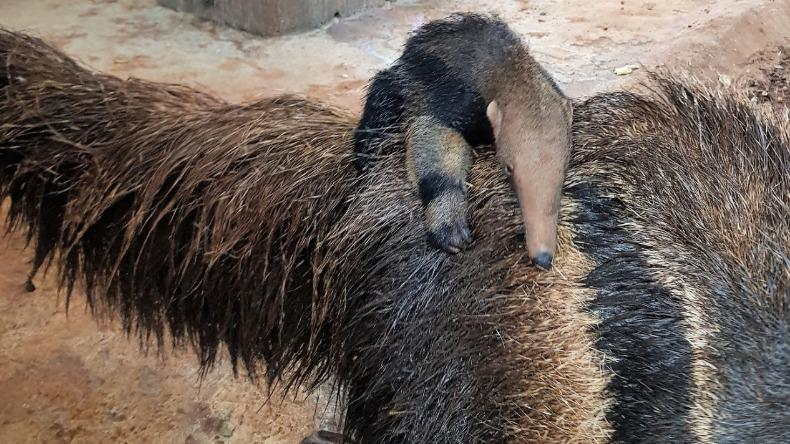TamanduaBandeira: (3, 23, 785, 434), (362, 9, 582, 283)
